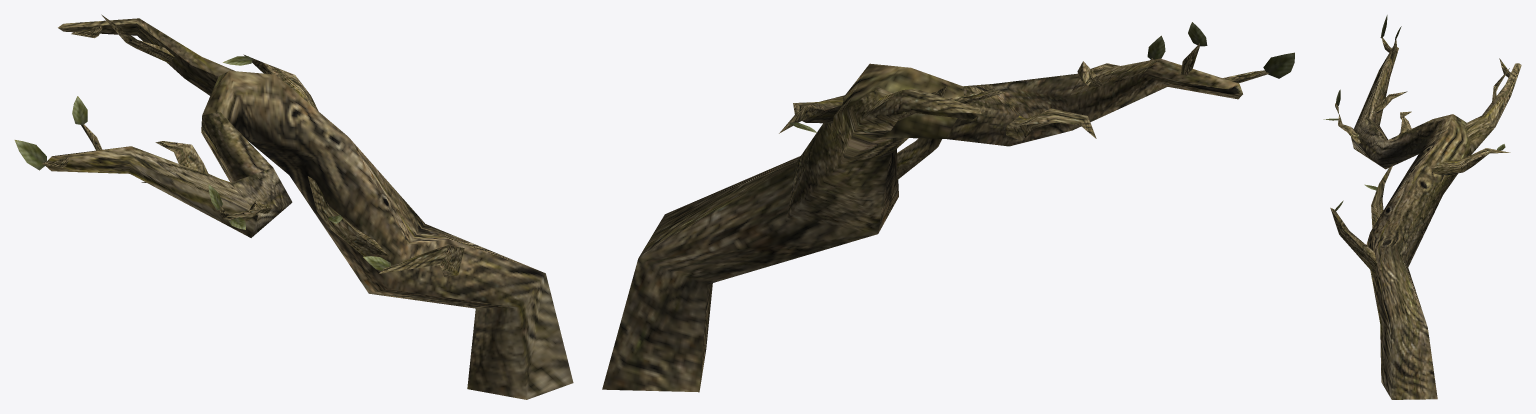
Rendered from SM_EN_2005_shu02.FBX.
The picture shows the model from 3 angles, left to right: view 1: azimuth 30°, elevation 25°; view 2: azimuth 150°, elevation 25°; view 3: azimuth 270°, elevation 25°; orthographic projection. The views are drawn at different scales.
Parts seen in each view (by area): view 1: SM_EN_2005_shu02; view 2: SM_EN_2005_shu02; view 3: SM_EN_2005_shu02.
Boxes of the visible parts, bbox=[...] form: SM_EN_2005_shu02: bbox=[14, 14, 573, 399]; SM_EN_2005_shu02: bbox=[602, 22, 1294, 392]; SM_EN_2005_shu02: bbox=[1323, 15, 1521, 399].
Bounding box in the file's own units: 219 × 151 × 114.
